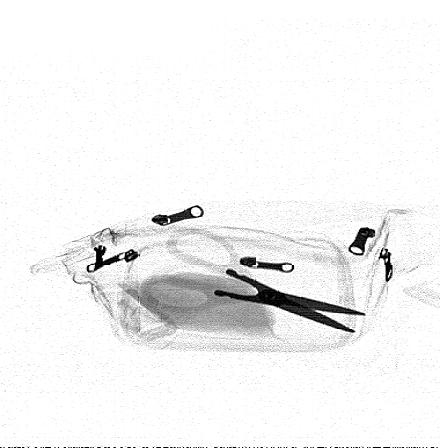Scissors: (135, 225, 369, 333)
